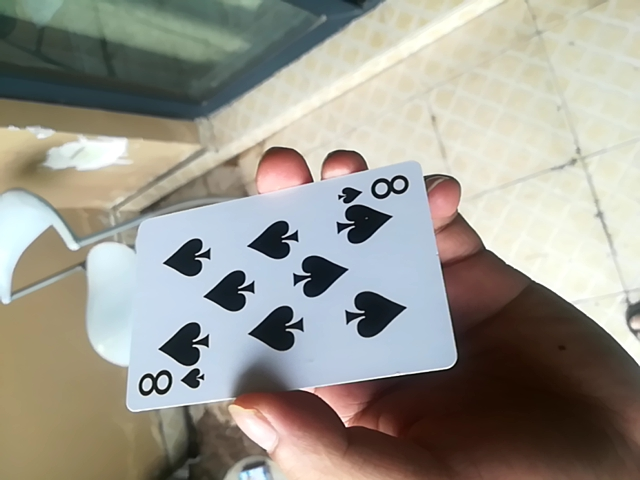ht 8: (120, 158, 461, 418)
